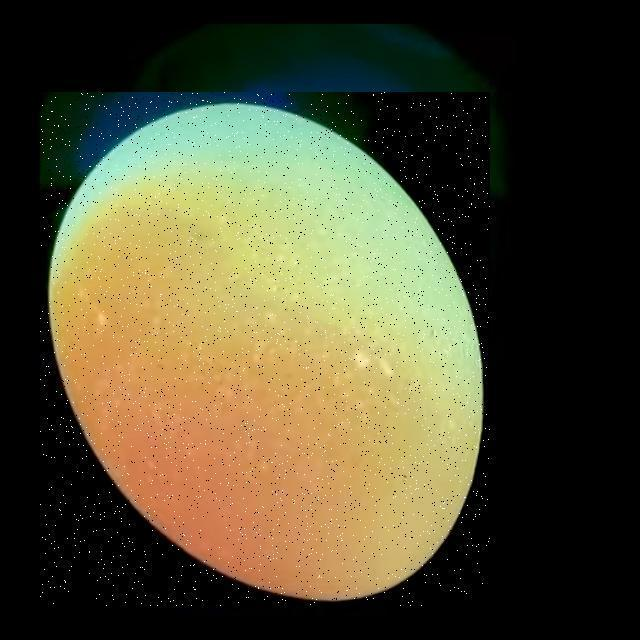A - Good: (38, 90, 492, 604)
